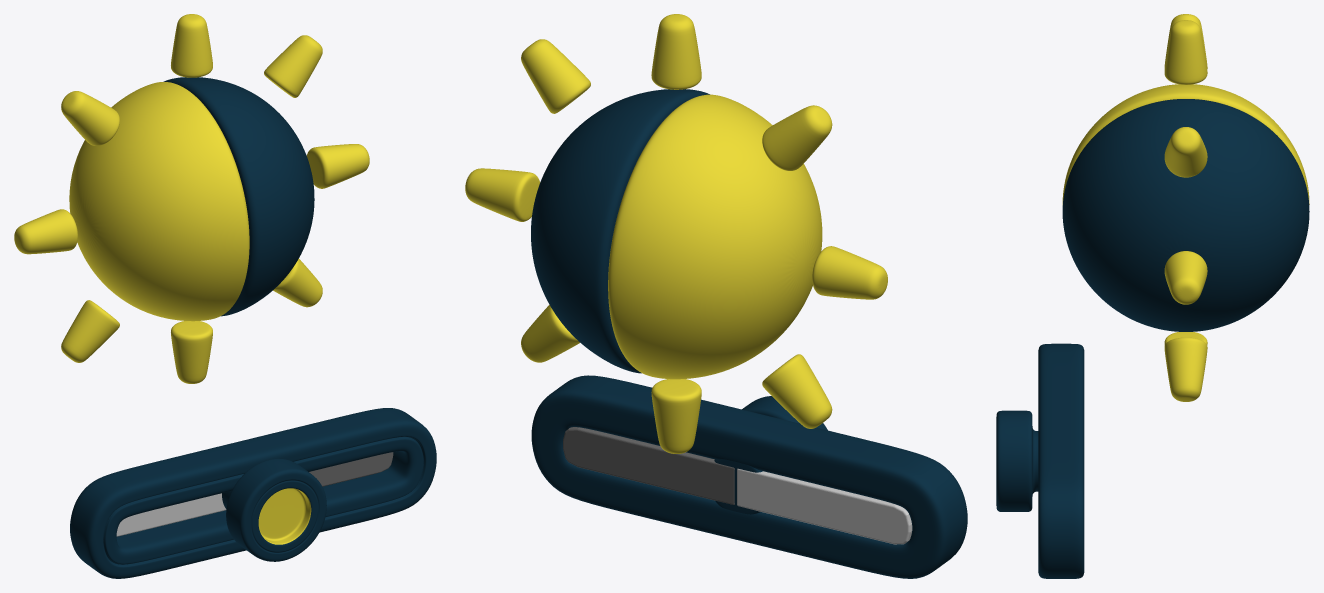
Rendered from dayNight.fbx.
The picture shows the model from 3 angles, left to right: view 1: azimuth 30°, elevation 25°; view 2: azimuth 150°, elevation 25°; view 3: azimuth 270°, elevation 25°; orthographic projection. The views are drawn at different scales.
Parts seen in each view (by area): view 1: Sphere.002, Cube.047, Cylinder.050, Sphere.003, Cylinder.051, Cube.050, Cube.001; view 2: Sphere.002, Cube.047, Cylinder.050, Sphere.003, Cube.050, Cube.001, Cylinder.051; view 3: Sphere.003, Cube.047, Cylinder.050, Cylinder.051, Sphere.002.
Boxes of the visible parts, <box> form: Sphere.002: <box>69,82,249,321</box>; Cube.047: <box>70,408,436,578</box>; Cylinder.050: <box>14,14,369,383</box>; Sphere.003: <box>163,77,314,316</box>; Cylinder.051: <box>222,458,326,561</box>; Cube.050: <box>116,493,226,536</box>; Cube.001: <box>309,452,393,486</box>; Sphere.002: <box>608,94,822,379</box>; Cube.047: <box>531,375,967,578</box>; Cylinder.050: <box>465,14,887,453</box>; Sphere.003: <box>531,89,709,373</box>; Cube.050: <box>737,468,912,544</box>; Cube.001: <box>563,427,734,504</box>; Cylinder.051: <box>714,396,827,514</box>; Sphere.003: <box>1062,99,1309,331</box>; Cube.047: <box>1038,343,1084,578</box>; Cylinder.050: <box>1164,14,1207,401</box>; Cylinder.051: <box>996,410,1038,511</box>; Sphere.002: <box>1062,84,1309,204</box>.
Size of the model in its own units: 115 by 151 by 88.04.
